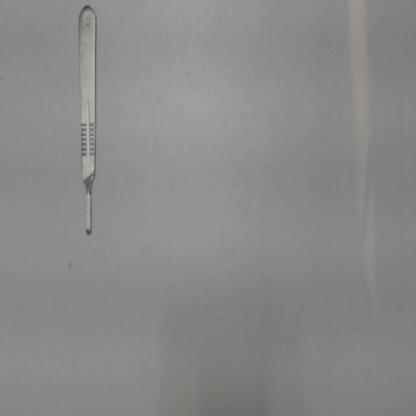No.4 BP Handle: (74, 3, 102, 239)
